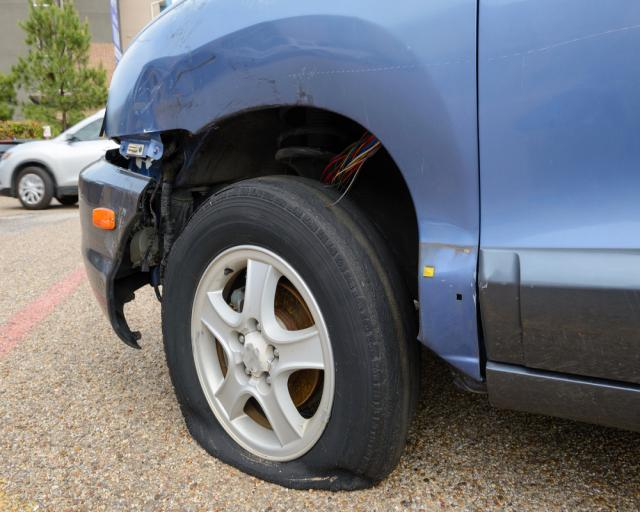dent: (133, 54, 215, 134)
scratch: (169, 57, 321, 127), (163, 0, 208, 49)
tire flat: (159, 174, 417, 492)
